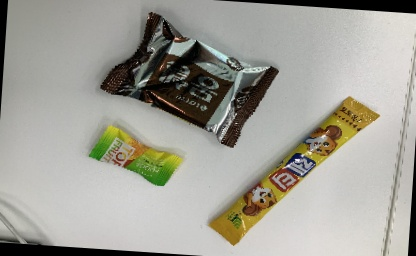jeli: (85, 120, 189, 195)
jt: (205, 86, 383, 256)
mon: (96, 6, 286, 155)
